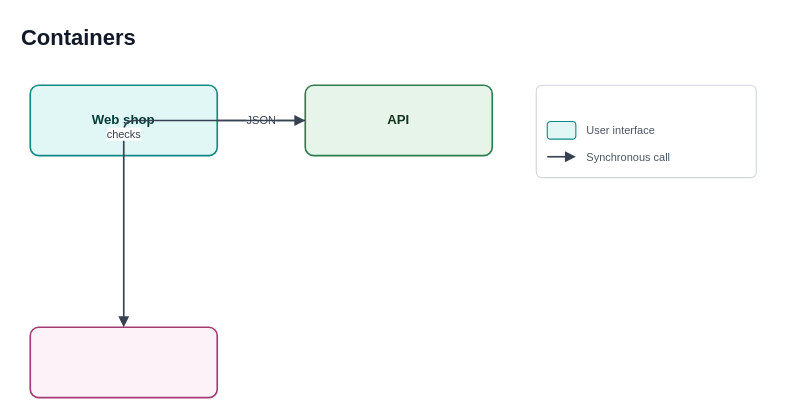
Some shapes in this 785 by 417 pixel diagram are drawn without their labels. The box of each missing label's shape, as (x1, y1, x2, y2) in pixels:
Legend: (535, 84, 756, 178)
Pinned: (29, 326, 218, 398)
